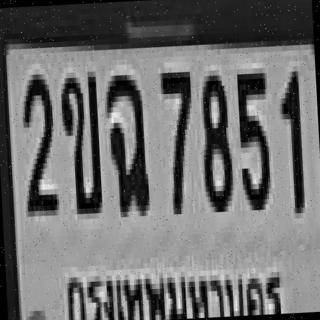A02: (58, 66, 100, 210)
A09: (104, 69, 148, 212)
N01: (278, 66, 303, 209)
N02: (18, 69, 56, 212)
N05: (235, 68, 270, 206)
N07: (158, 66, 195, 210)
N08: (198, 70, 232, 208)
